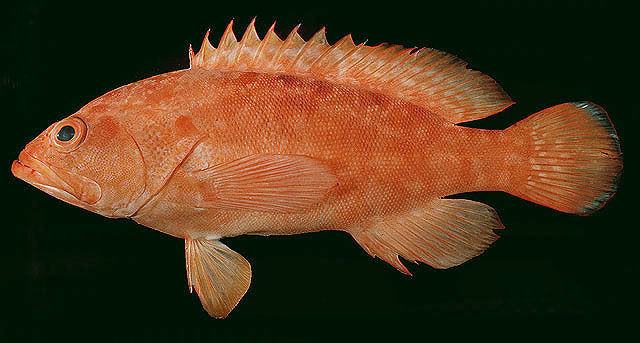fish: (12, 18, 622, 322)
